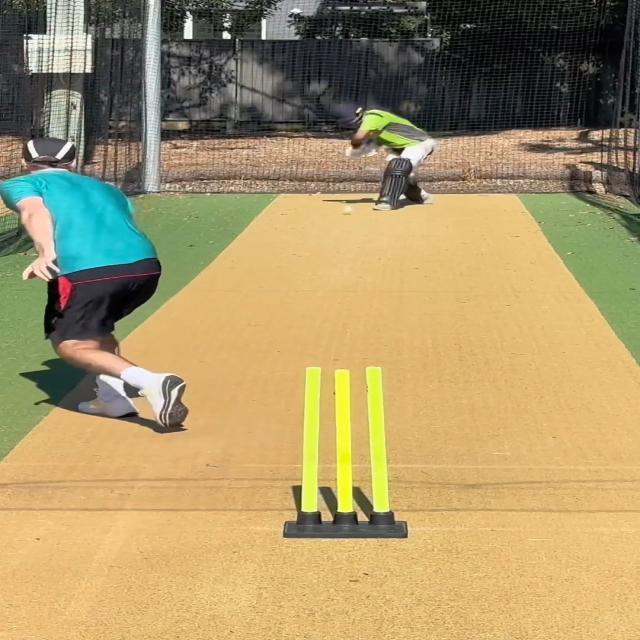ball: (340, 204, 355, 216)
stump: (282, 363, 408, 540)
